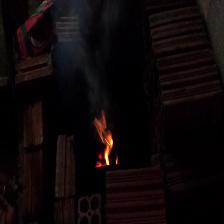fire: (93, 112, 117, 165)
smoke: (69, 11, 109, 104)
